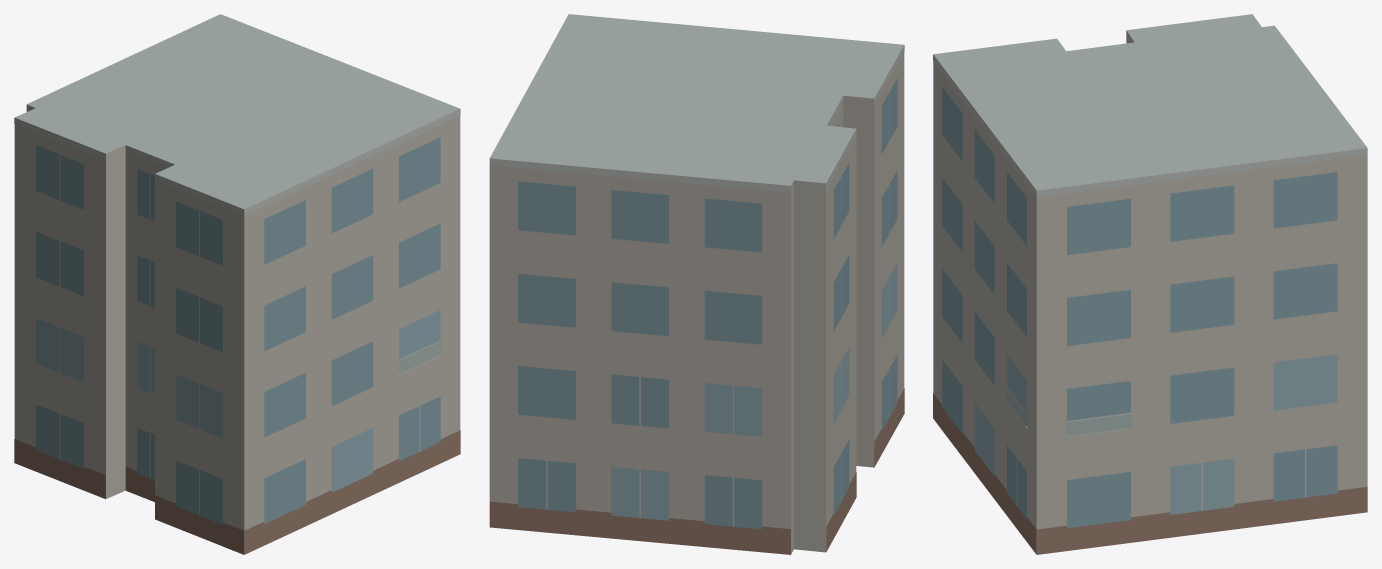
Rendered from survey-upis-32742269.glb.
3 views of the same model, side by side, from view 1: azimuth 30°, elevation 25°; view 2: azimuth 150°, elevation 25°; view 3: azimuth 270°, elevation 25° (orthographic). The views are drawn at different scales.
Visible parts, largest first — view 1: survey-upis-32742269.tmp; view 2: survey-upis-32742269.tmp; view 3: survey-upis-32742269.tmp.
Part boxes in pixels (x1,y1,x2,y2): survey-upis-32742269.tmp: (14, 14, 460, 554); survey-upis-32742269.tmp: (489, 14, 904, 554); survey-upis-32742269.tmp: (933, 14, 1367, 554).
Bounding box in the file's own units: 13.43 × 12.9 × 13.96.
